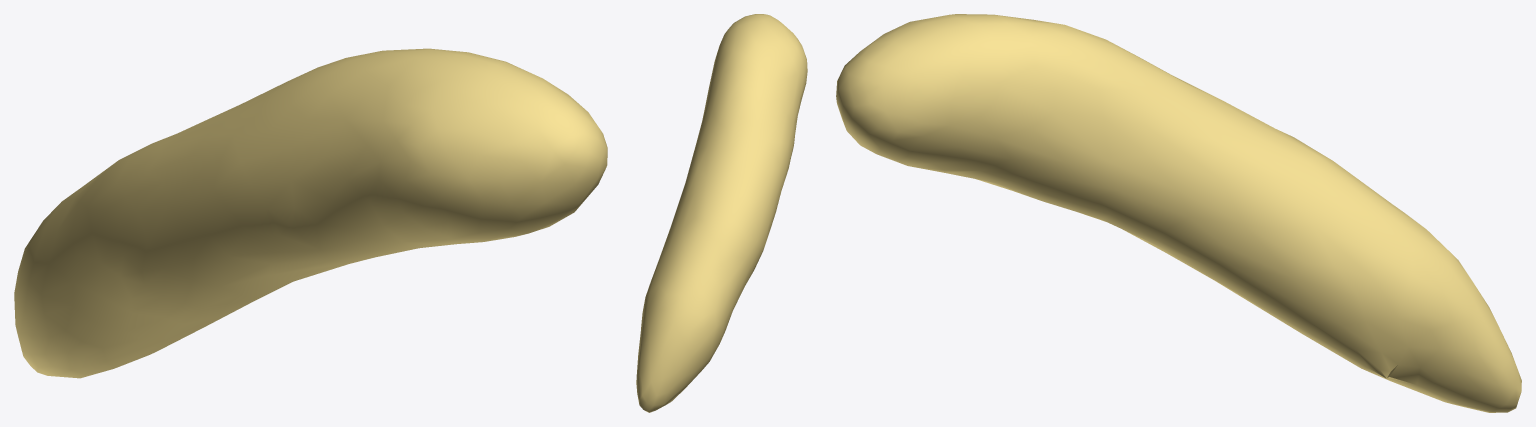
The model's file is fma73469_mm3559m.glb.
The picture shows the model from 3 angles, left to right: view 1: azimuth 30°, elevation 25°; view 2: azimuth 150°, elevation 25°; view 3: azimuth 270°, elevation 25°; orthographic projection. The views are drawn at different scales.
Visible parts, largest first — view 1: FMA73469_MM3559M; view 2: FMA73469_MM3559M; view 3: FMA73469_MM3559M.
Boxes of the visible parts, x1,y1,x2,y2 form: FMA73469_MM3559M: (14,48,607,378); FMA73469_MM3559M: (636,14,807,412); FMA73469_MM3559M: (836,14,1521,412).
Bounding box in the file's own units: 0.00143 × 0.00255 × 0.00364.
